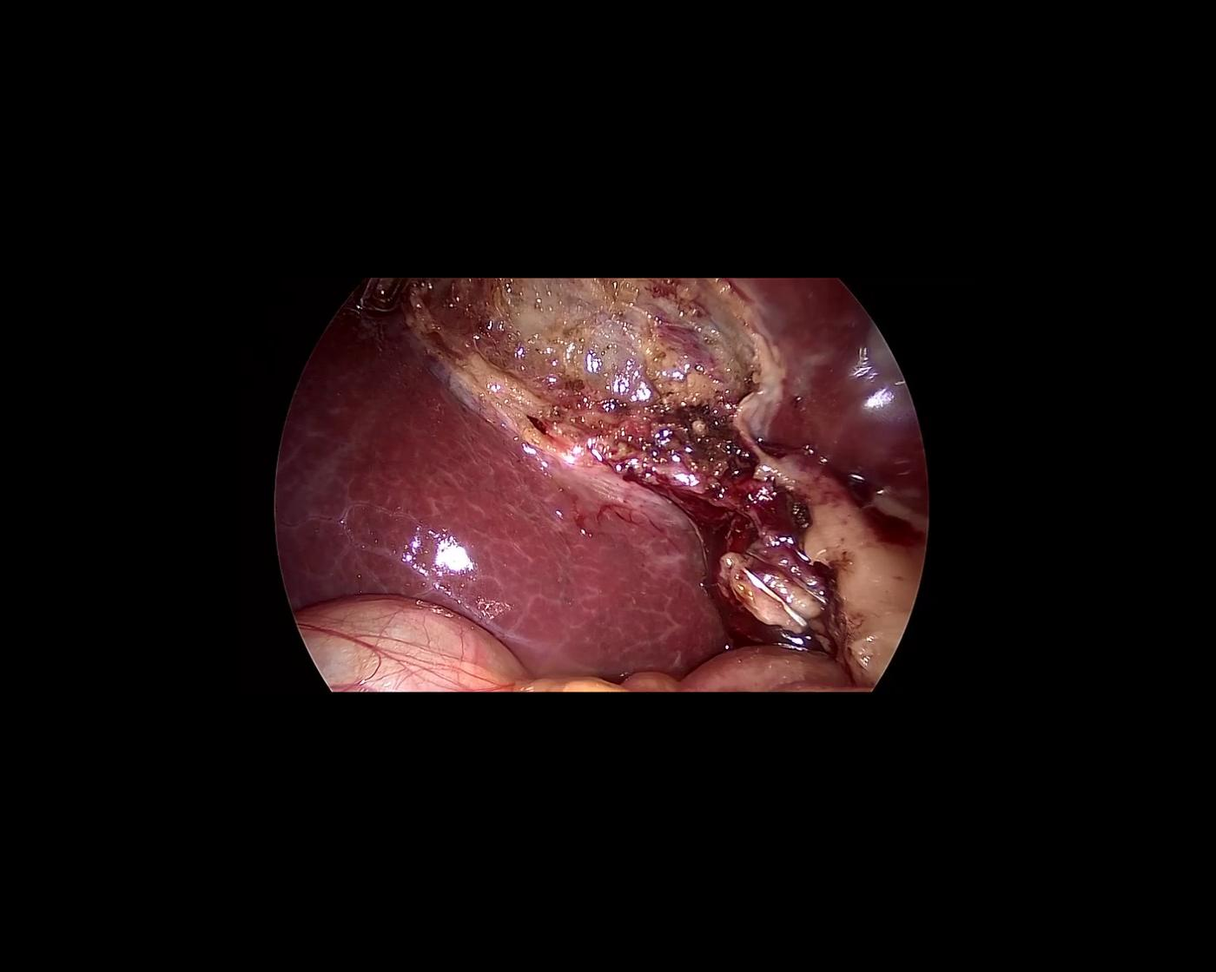Forceps: (350, 262, 412, 324)
Gallbladder: (398, 280, 749, 455)
Liver: (191, 294, 778, 824), (715, 243, 926, 519)
